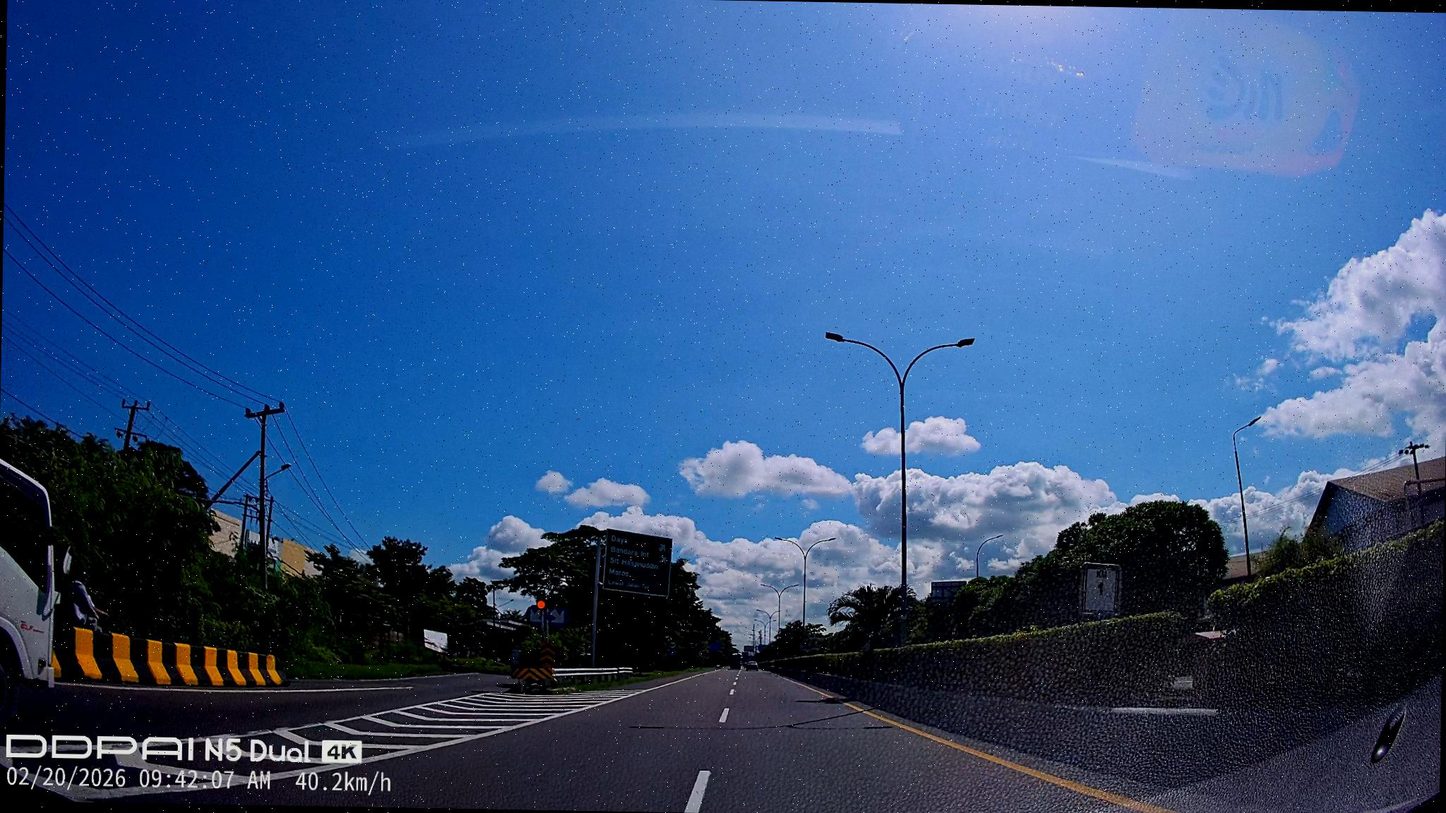rambu_teks: (605, 528, 672, 595)
